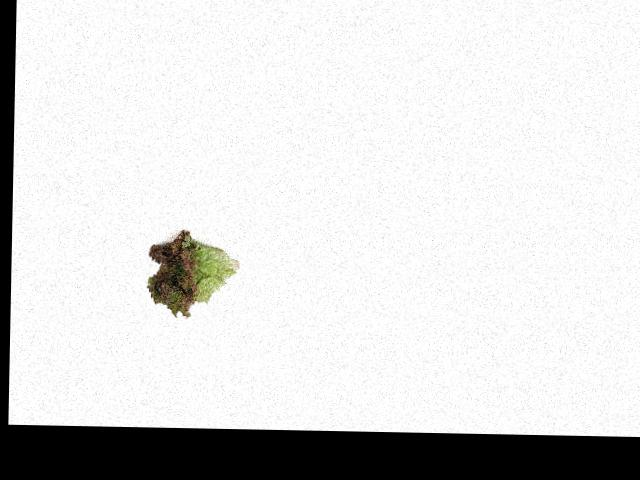lettuce: (134, 221, 242, 322)
